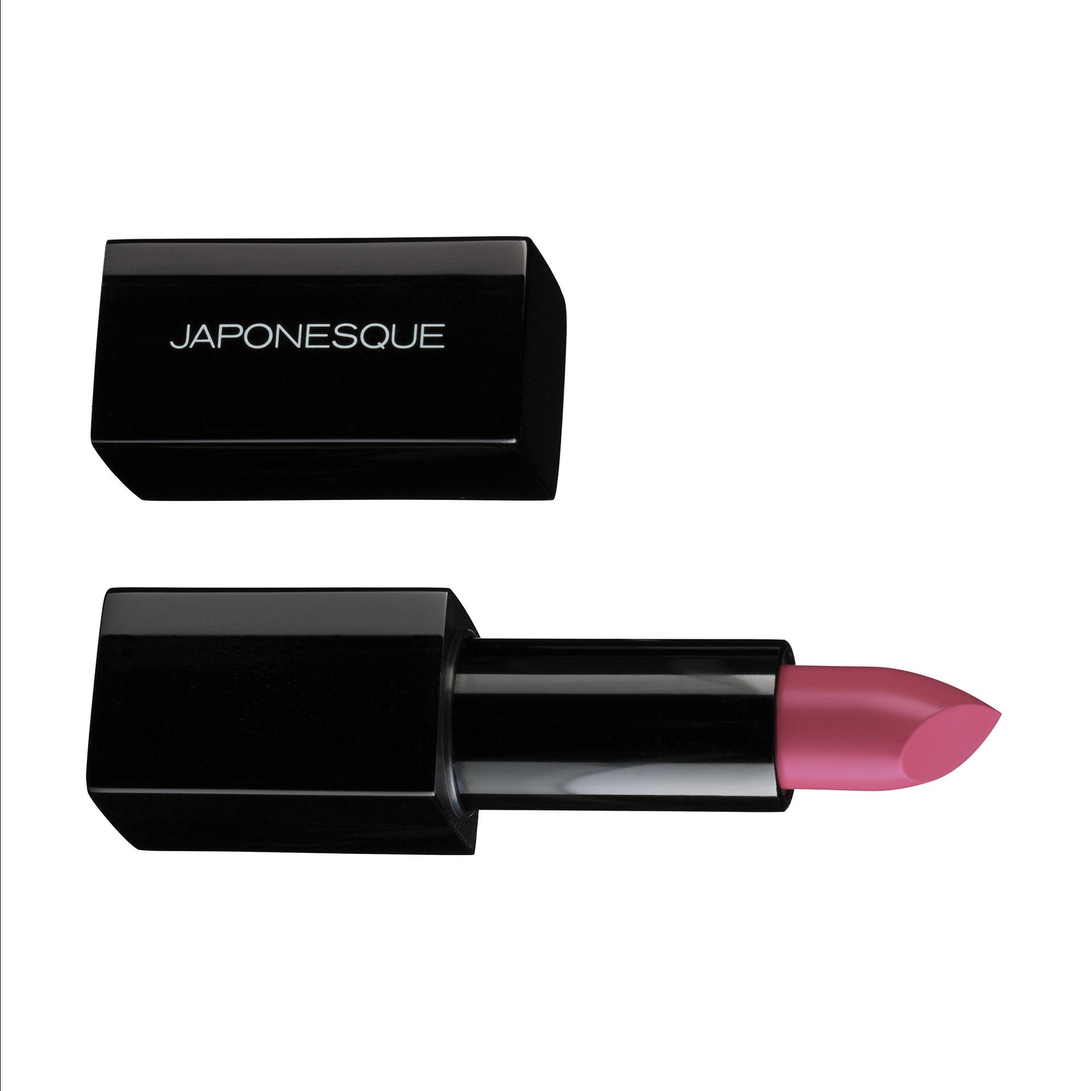lipstick: (72, 555, 1010, 869)
